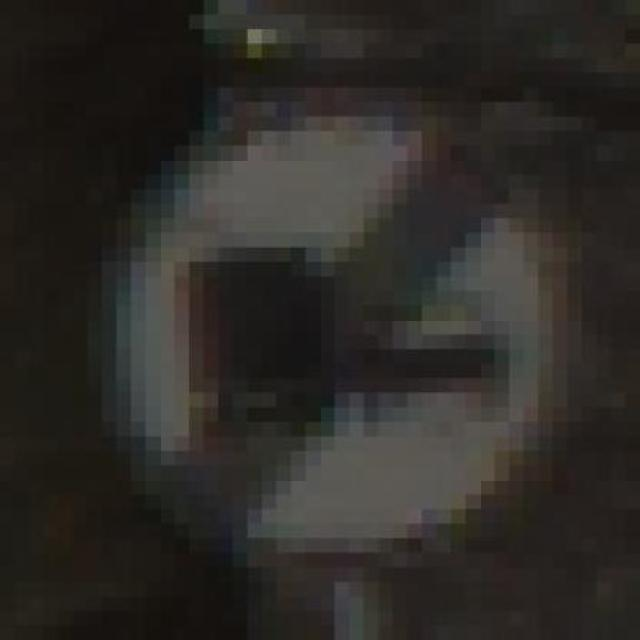Overtaking by trucks is prohibited: (43, 72, 597, 568)
